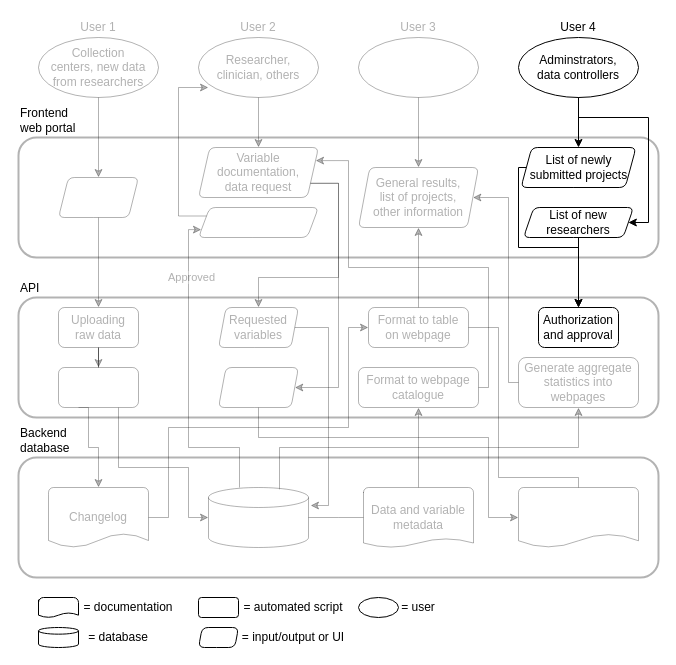
Image size: 676x665. Some labels were removed from this diagram. Here are the shapes that lost their labels. From the top down, the centre of each, then its label:
[418,67]: Policy makers, healthcare staff
[98,197]: Data input
[258,222]: Data transfer
[98,387]: Cleaning, processing
[258,387]: Project description
[258,517]: Database
[578,517]: Ongoing and completed projects
